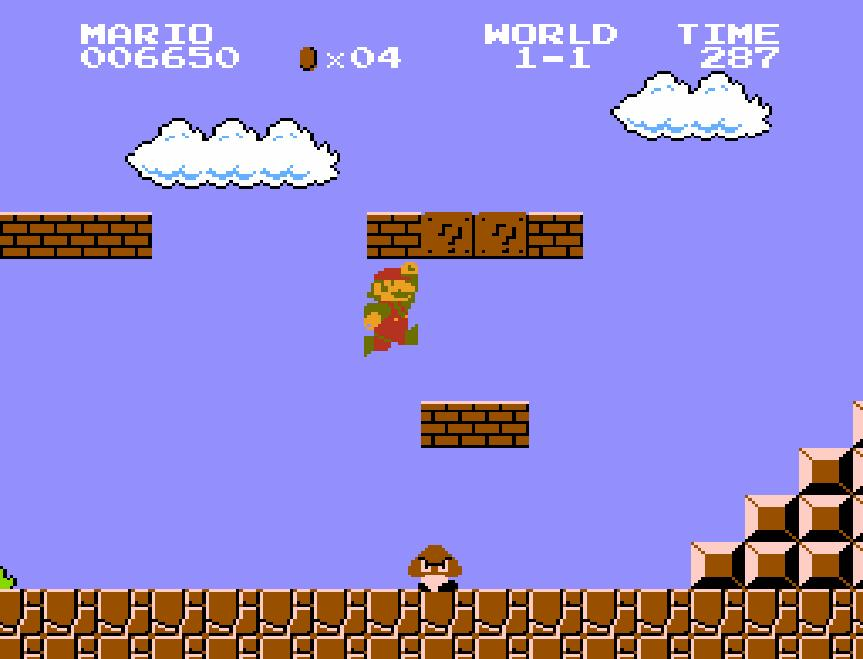big_mario: (362, 260, 420, 358)
